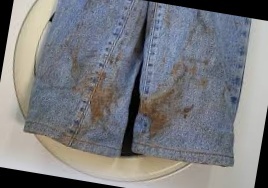earth: (140, 88, 173, 140), (83, 80, 117, 126)
